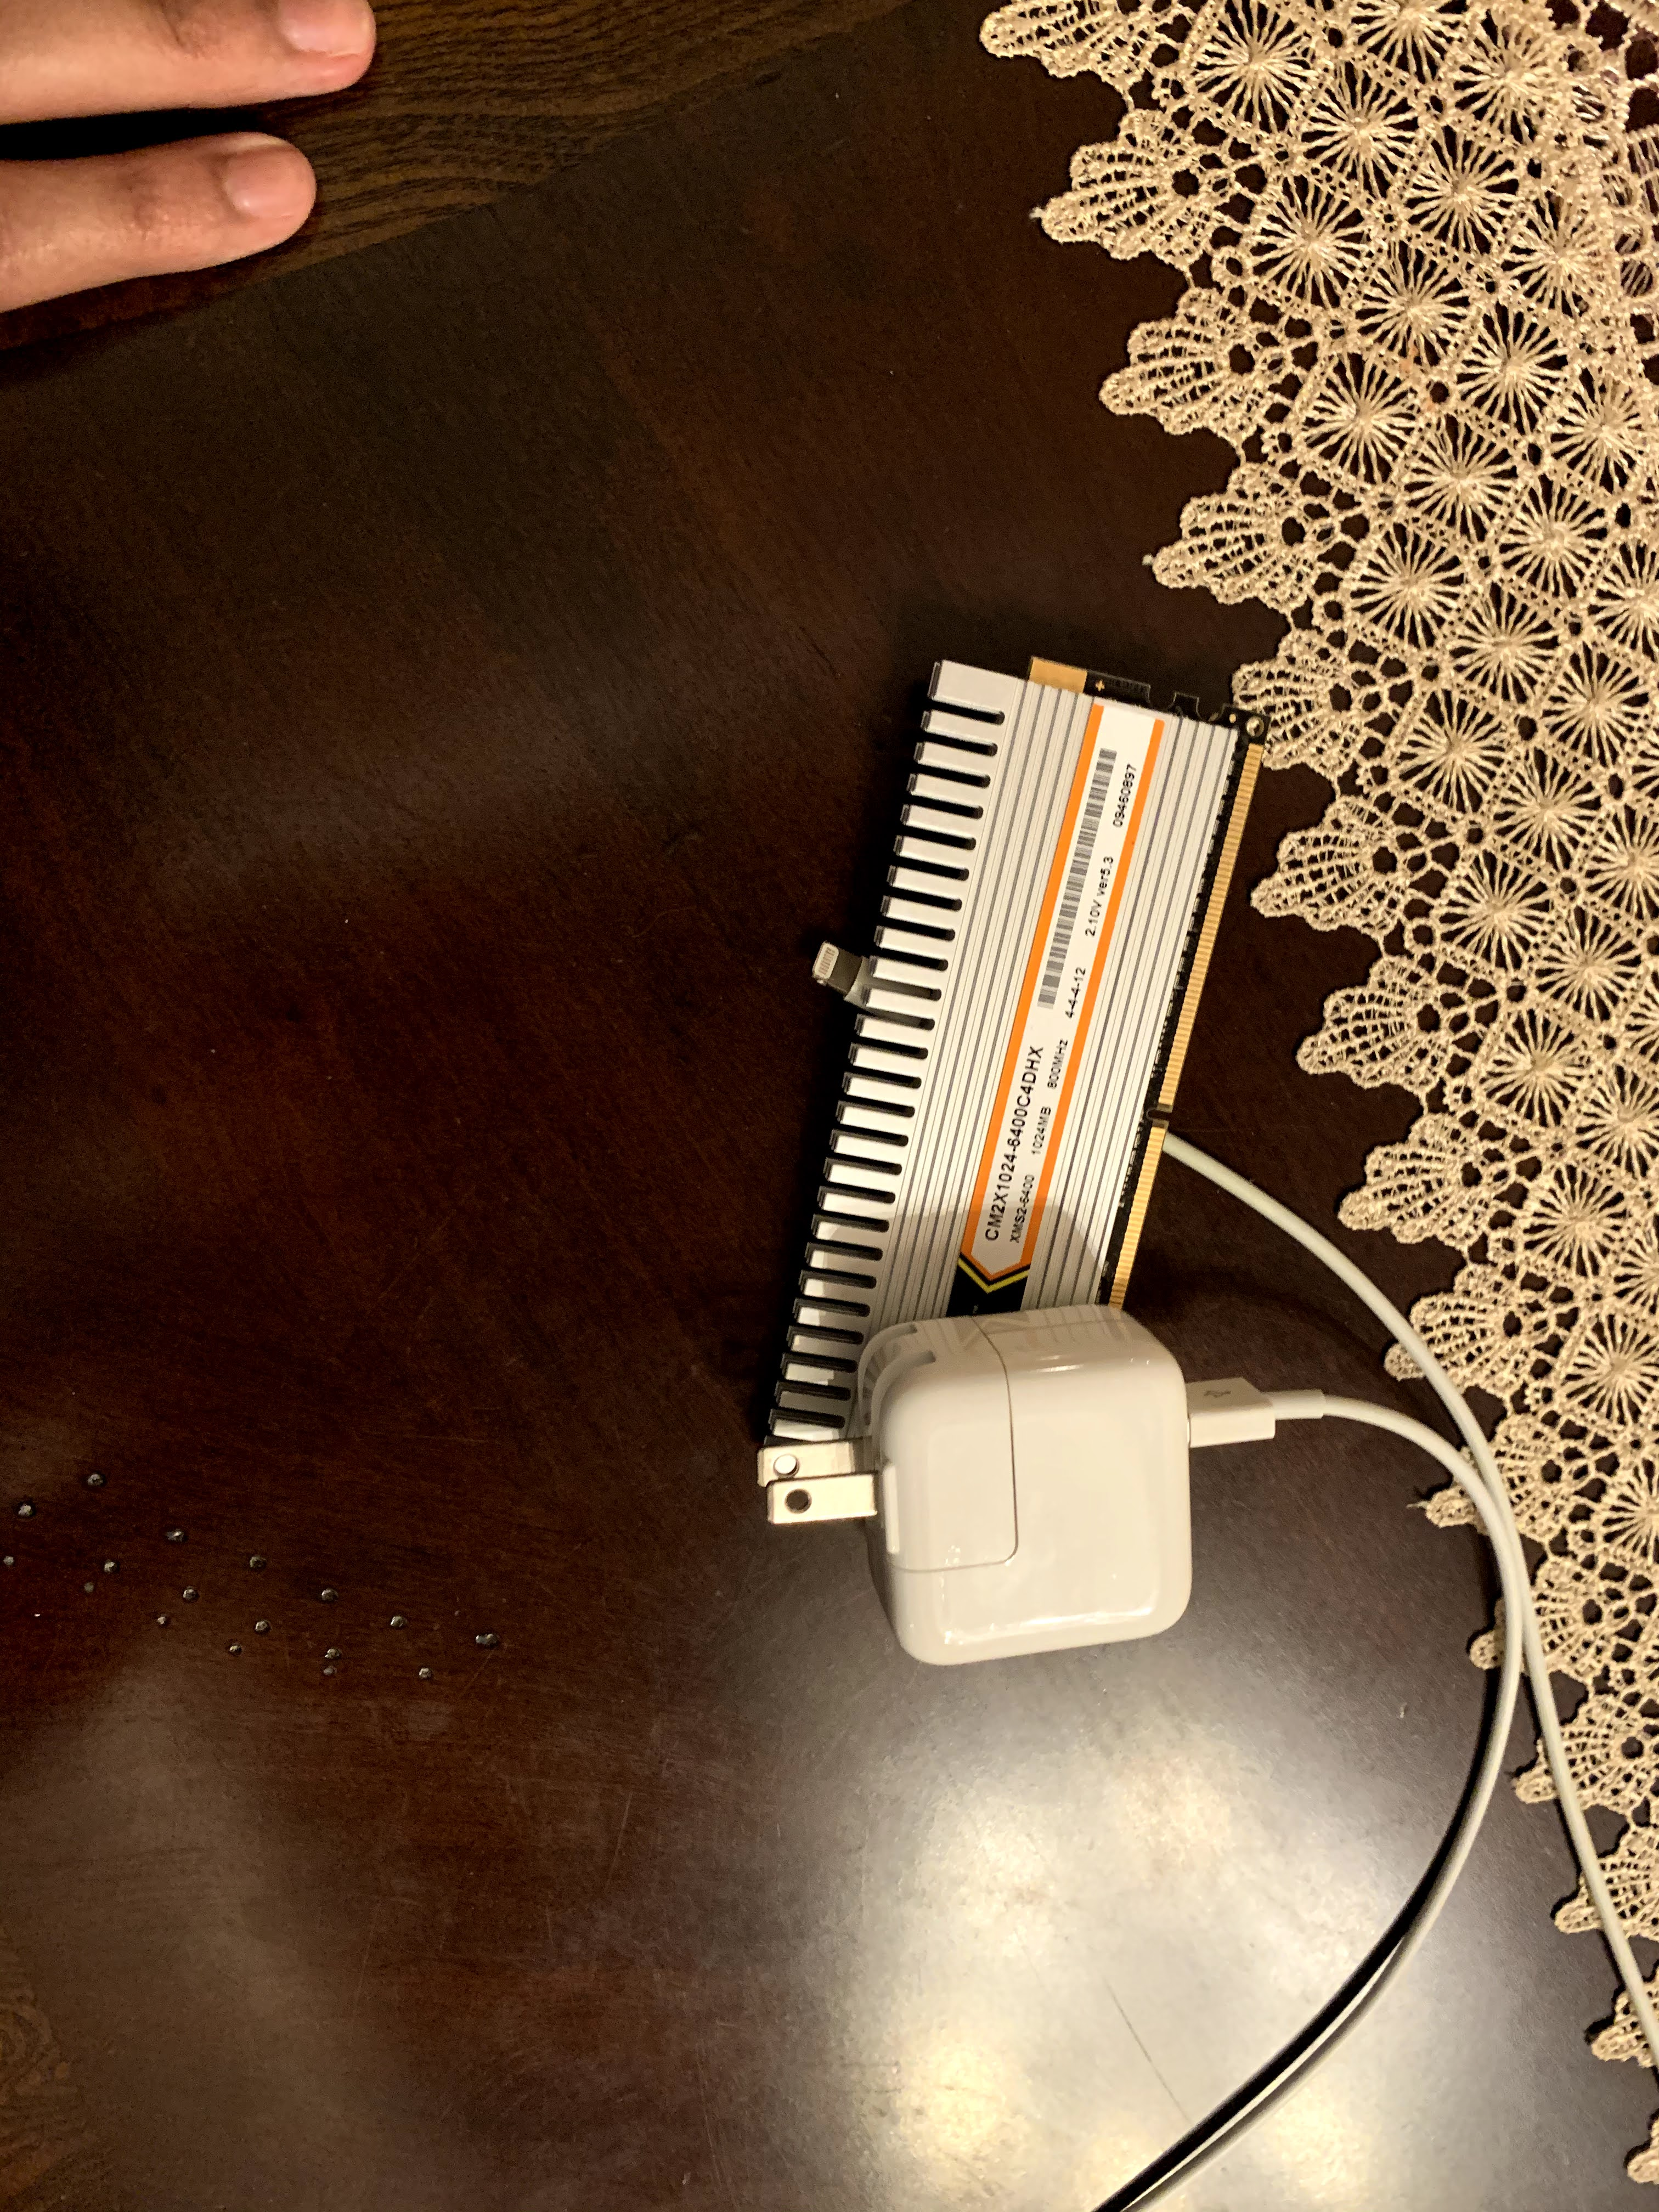Space-debris-medium: (788, 610, 1277, 1564)
